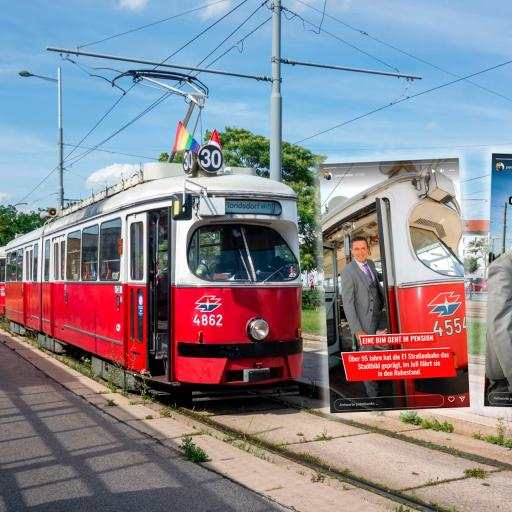E2-Tram: (0, 142, 306, 404)
